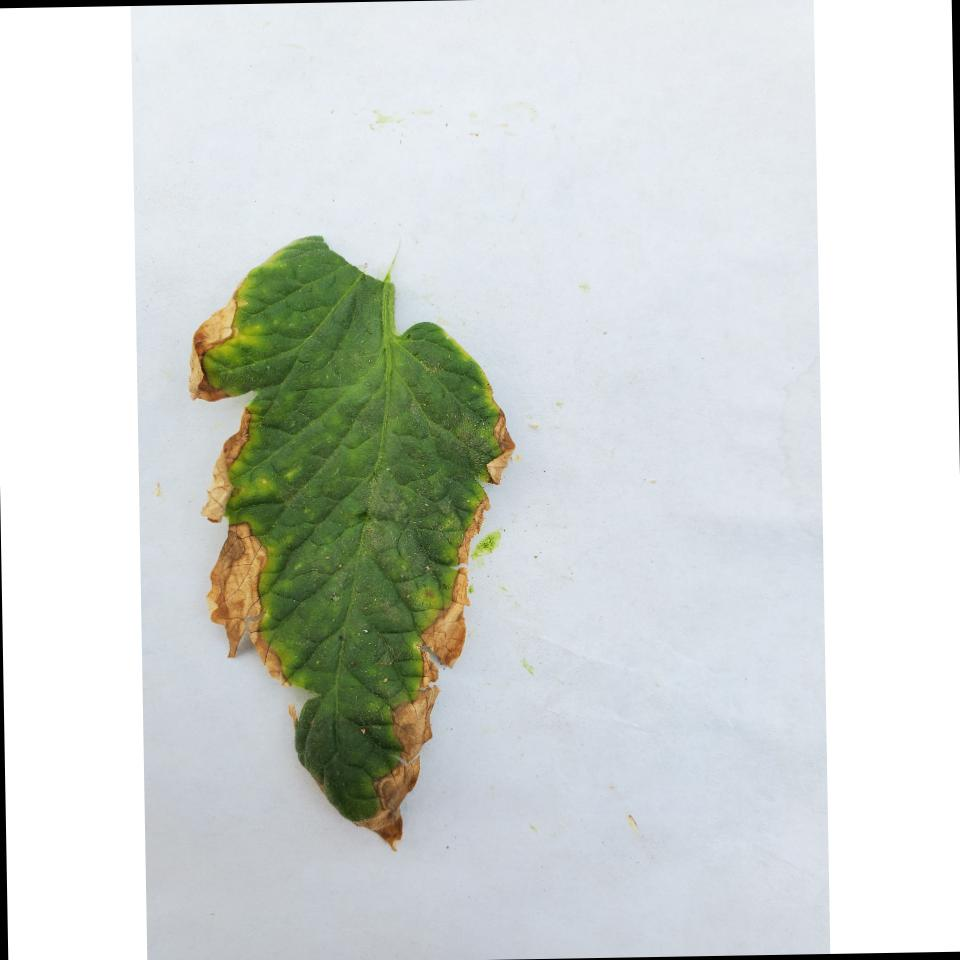tomato_bacterial_blight: (191, 226, 525, 857)
